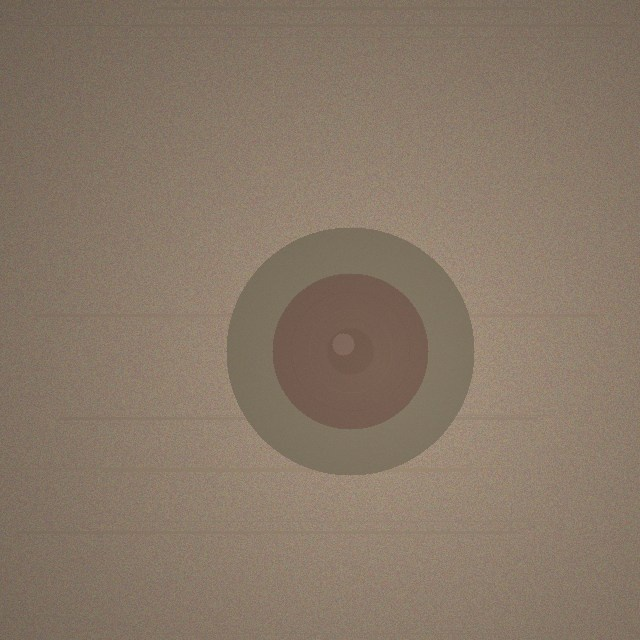good: (226, 227, 474, 475)
